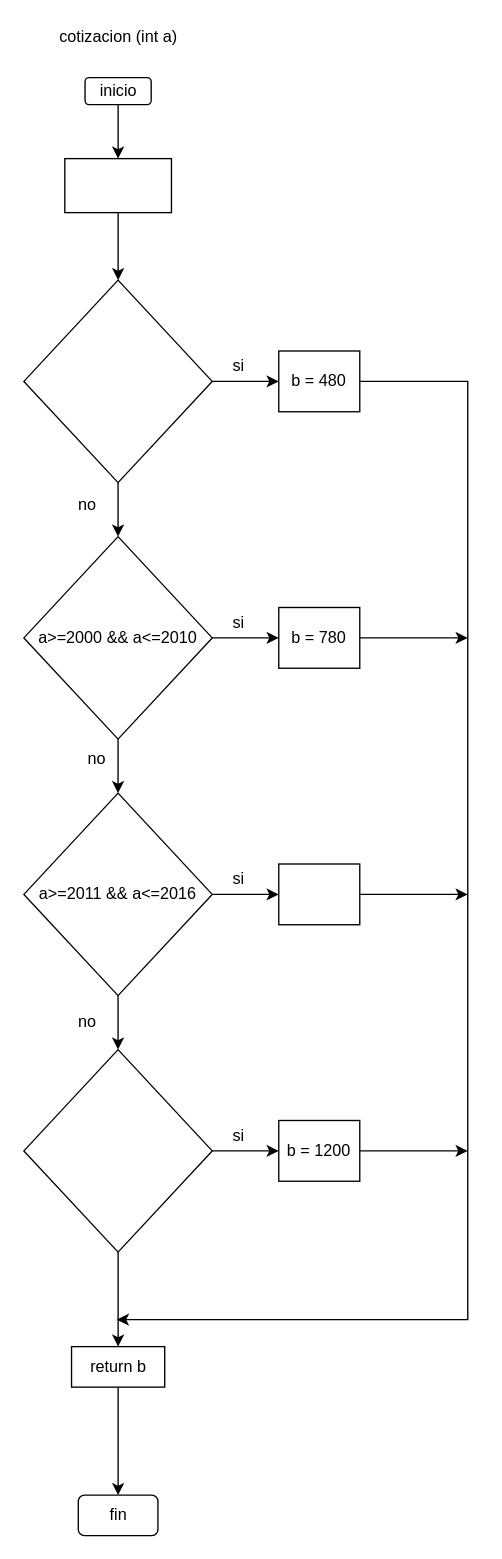
Some shapes in this 502 by 1559 pixel diagram are drawn without their labels. The shapes that lost their labels are listed below. From the top down, each one's centre as x and y in pixels, then its label:
(117,185): int b = 350
(117,381): a>=1990 && a<=1999
(318,894): b = 950
(117,1150): a>=2017 && a<=2020
